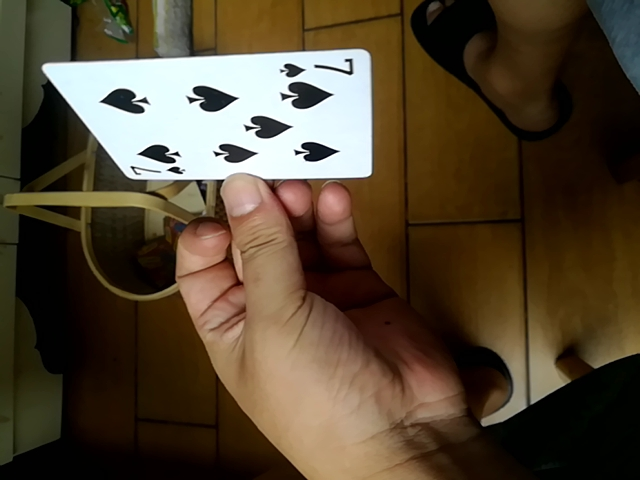ht 7: (44, 49, 372, 184)
